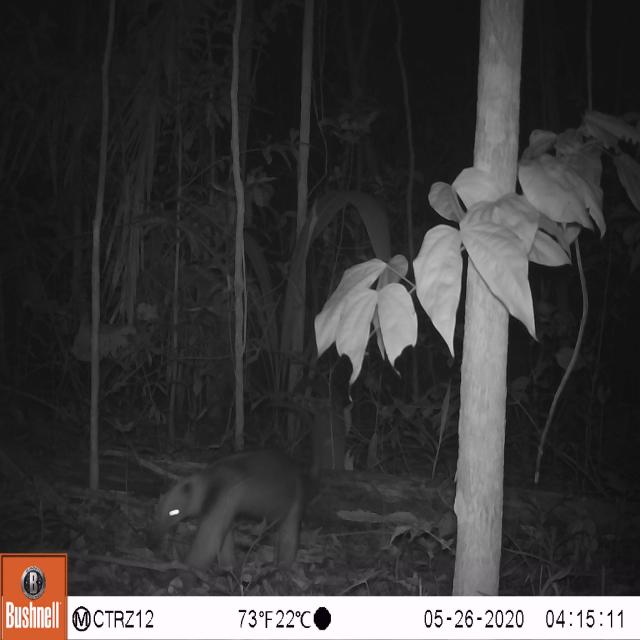Southern Tamandua: (114, 425, 325, 579)
